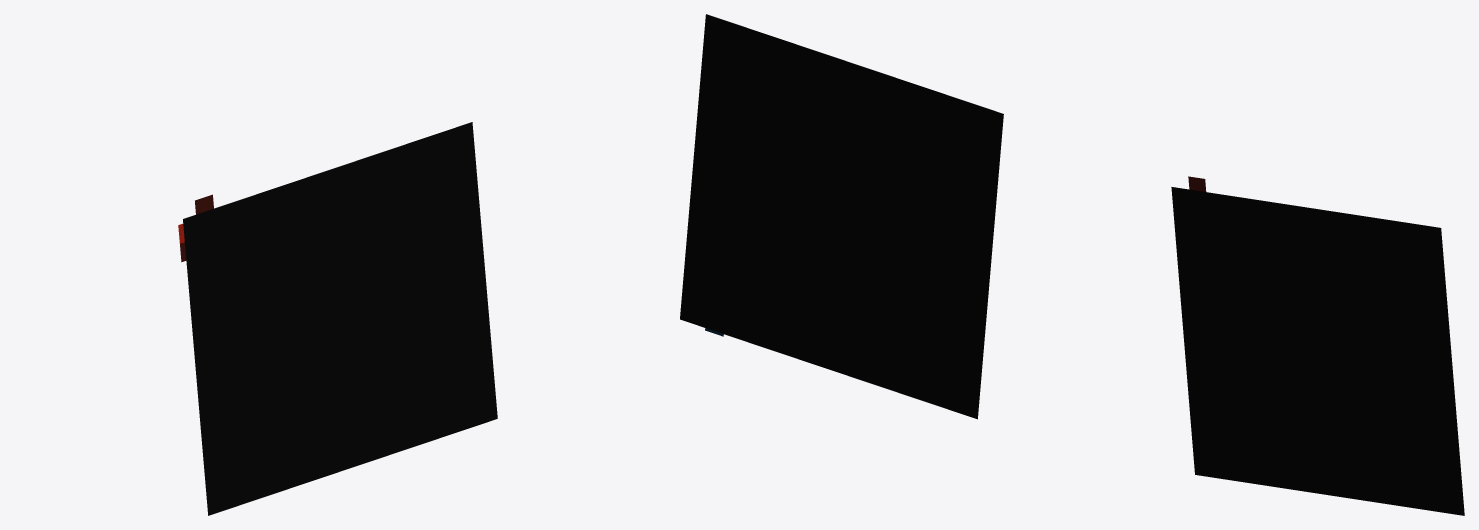
The model's file is whisperwind.gltf.
The picture shows the model from 3 angles, left to right: view 1: azimuth 30°, elevation 25°; view 2: azimuth 150°, elevation 25°; view 3: azimuth 330°, elevation 25°; orthographic projection. The views are drawn at different scales.
Visible parts, largest first — view 1: cube; view 2: cube; view 3: cube.
Part boxes in pixels (x1,y1,x2,y2): cube: (183,122,497,515); cube: (680,14,1003,419); cube: (1171,187,1464,515).
Size of the model in its own units: 0.7134 by 0.6748 by 0.0251.
Materials: 2 (2 with a texture image).
